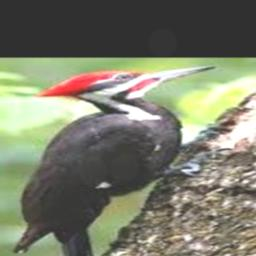Woodpecker: (14, 64, 219, 256)
